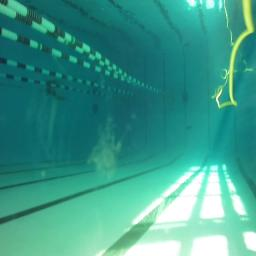Full: (185, 124, 192, 130)
